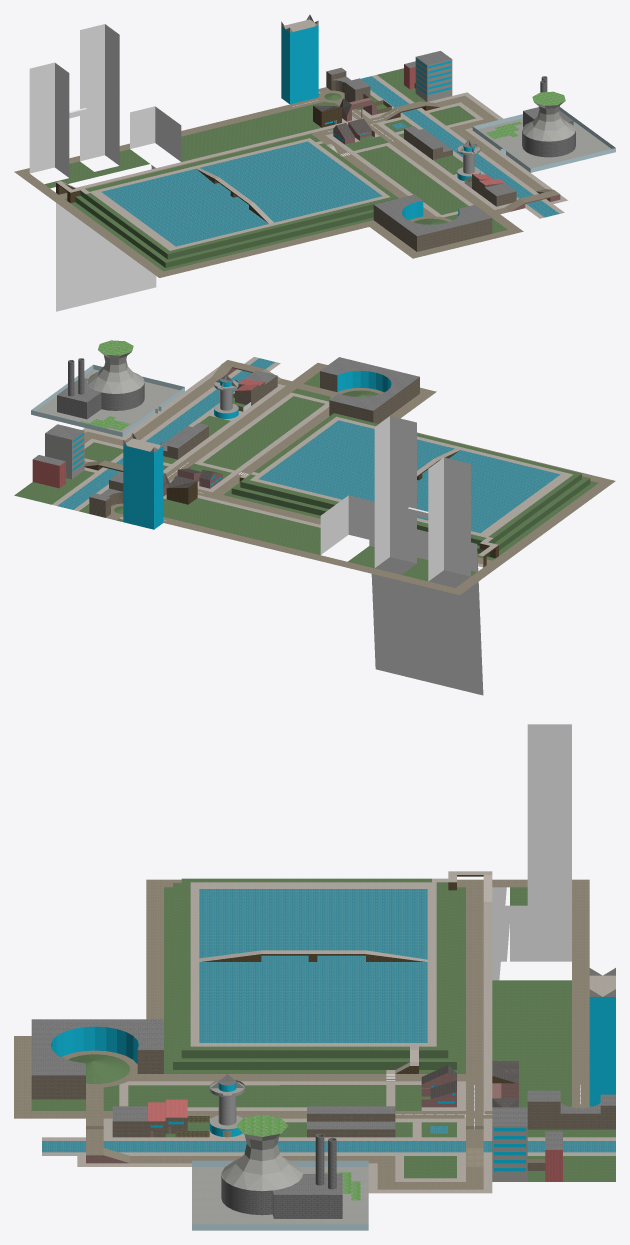
File: huis.gltf
3 views of the same model, one above another, from view 1: azimuth 30°, elevation 25°; view 2: azimuth 150°, elevation 25°; view 3: azimuth 270°, elevation 25° (orthographic). The views are drawn at different scales.
Visible parts, largest first — view 1: ID1822, ID378, ID1742, ID1754, ID1736, ID1730, ID711, ID899, ID913, ID1485, ID411, ID1188 (+17 smaller); view 2: ID1742, ID1822, ID378, ID1754, ID1736, ID1730, ID899, ID913, ID711, ID1485, ID411, ID1596 (+18 smaller); view 3: ID1822, ID378, ID1754, ID711, ID899, ID1736, ID411, ID1485, ID1742, ID1629, ID1188, ID1596 (+23 smaller).
Part boxes in pixels (x1,y1,x2,y2): ID1822: (101,141,382,246); ID378: (14,87,559,277); ID1742: (56,106,181,311); ID1754: (65,134,398,271); ID1736: (80,24,119,165); ID1730: (29,62,69,177); ID711: (56,116,389,250); ID899: (181,101,339,161); ID913: (281,26,318,104); ID1485: (357,146,468,214); ID411: (360,76,559,217); ID1188: (372,75,567,213); ID1742: (320,495,483,695); ID1822: (258,420,560,533); ID378: (84,360,615,595); ID1754: (223,413,598,560); ID1736: (374,416,416,567); ID1730: (428,457,470,581); ID899: (163,498,320,554); ID913: (123,445,163,529); ID711: (163,416,572,567); ID1485: (203,396,324,470); ID411: (57,358,274,509); ID1596: (57,378,144,419); ID1822: (199,889,427,1042); ID378: (14,879,591,1189); ID1754: (164,878,465,1073); ID711: (190,871,492,1110); ID899: (492,980,571,1107); ID1736: (527,724,571,905); ID411: (42,1141,615,1152); ID1485: (128,1085,386,1107); ID1742: (492,887,571,980); ID1629: (192,1167,368,1224); ID1188: (42,1152,615,1193); ID1596: (221,1174,342,1218).
Size of the model in its own units: 239 by 121 by 173.
Materials: 379 (159 with a texture image).
